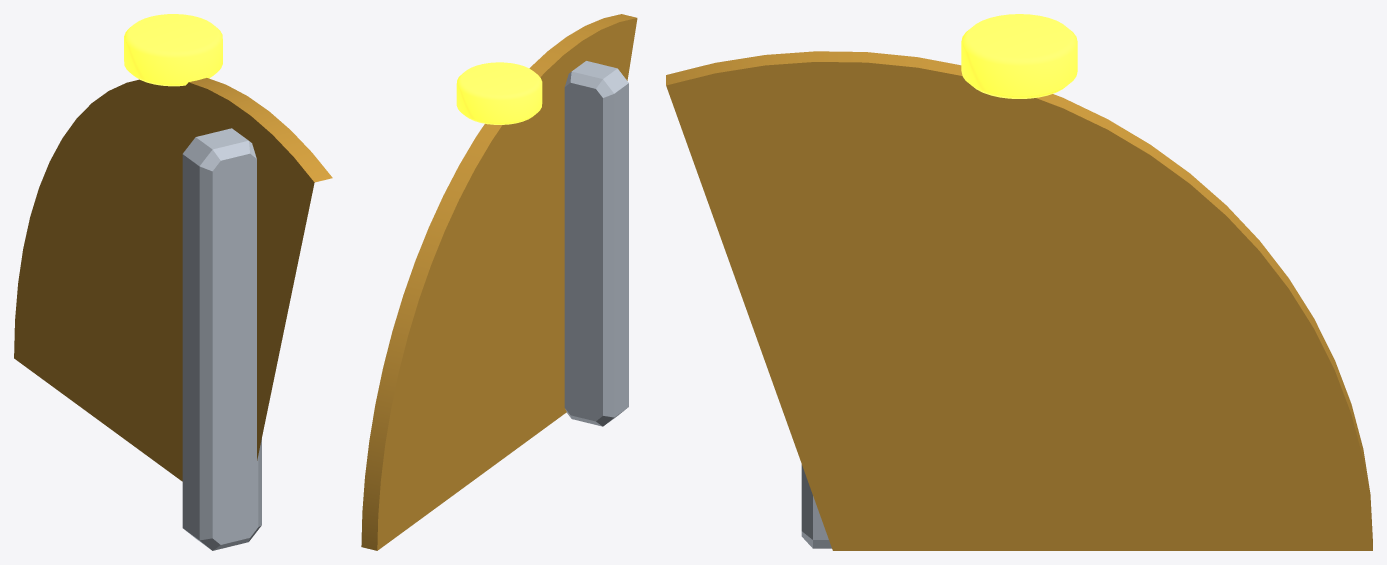
Rendered from tower_nova_range_s2.glb.
3 renders of one model, left to right at view 1: azimuth 30°, elevation 25°; view 2: azimuth 150°, elevation 25°; view 3: azimuth 270°, elevation 25°, orthographic. The views are drawn at different scales.
Visible parts, largest first — view 1: nova_quadrant_plate, nova_quadrant_pointer, nova_up_range_l2_stud; view 2: nova_quadrant_plate, nova_quadrant_pointer, nova_up_range_l2_stud; view 3: nova_quadrant_plate, nova_up_range_l2_stud, nova_quadrant_pointer.
Boxes of the visible parts, x1,y1,x2,y2 form: nova_quadrant_plate: (14, 78, 332, 481); nova_quadrant_pointer: (182, 128, 261, 550); nova_up_range_l2_stud: (124, 14, 222, 86); nova_quadrant_plate: (361, 14, 637, 550); nova_quadrant_pointer: (564, 61, 628, 426); nova_up_range_l2_stud: (456, 62, 542, 124); nova_quadrant_plate: (666, 51, 1372, 550); nova_up_range_l2_stud: (961, 14, 1077, 98); nova_quadrant_pointer: (801, 464, 831, 548).
Bounding box in the file's own units: 0.0684 × 0.2763 × 0.3403.
